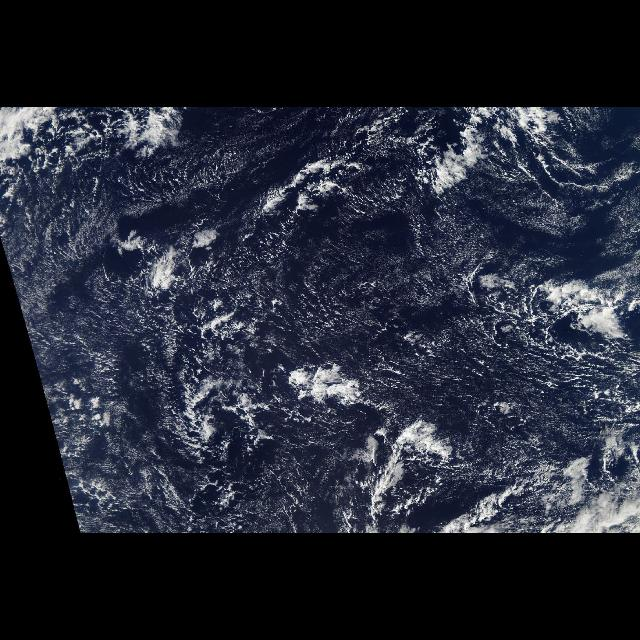Gravel: (52, 162, 370, 534)
Sugar: (274, 220, 518, 384), (7, 203, 160, 411)
